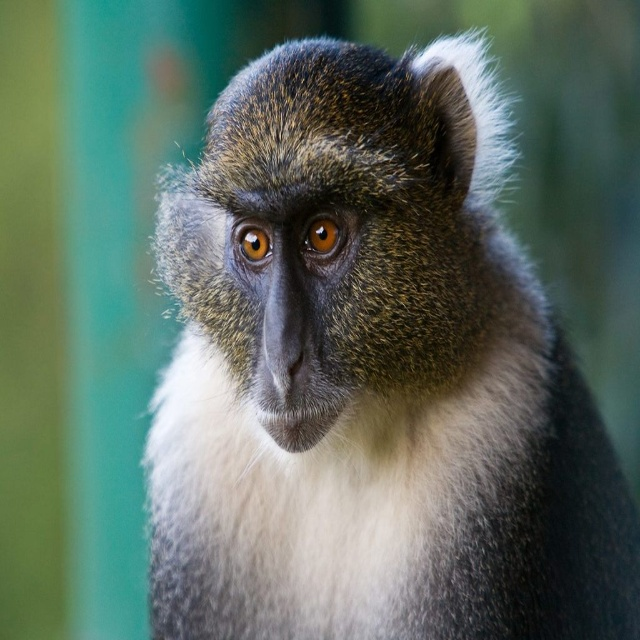Monkey: (135, 25, 640, 640)
